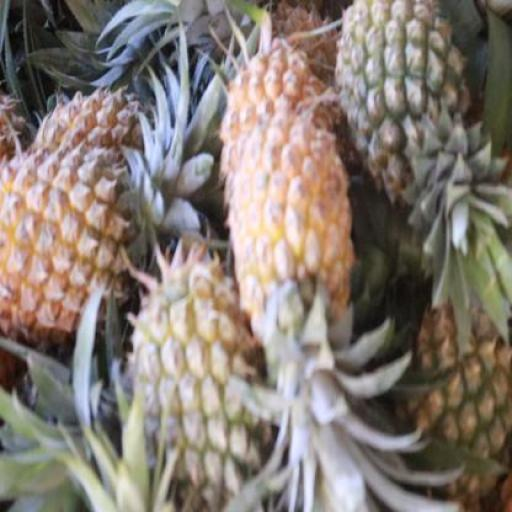------------------------------: (121, 254, 267, 504), (336, 0, 464, 198)
Pineapple - v8 v1: (234, 128, 349, 372), (1, 153, 126, 336)
